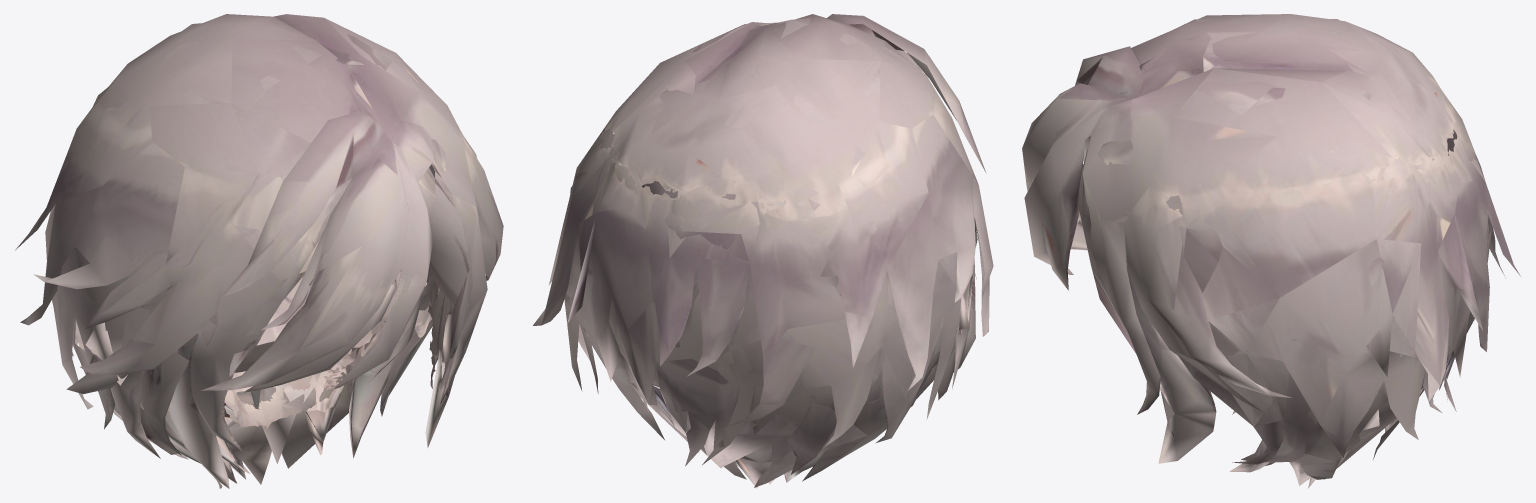
The model's file is swept.glb.
3 views of the same model, side by side, from view 1: azimuth 30°, elevation 25°; view 2: azimuth 150°, elevation 25°; view 3: azimuth 270°, elevation 25° (orthographic). The views are drawn at different scales.
Parts seen in each view (by area): view 1: Mesh_0; view 2: Mesh_0; view 3: Mesh_0.
Boxes of the visible parts, left/top/right/bottom form: Mesh_0: left=15, top=14, right=503, bottom=488; Mesh_0: left=533, top=14, right=993, bottom=488; Mesh_0: left=1022, top=14, right=1521, bottom=488.
Bounding box in the file's own units: 1.69 × 1.74 × 1.72.
1 material, 1 textured.
